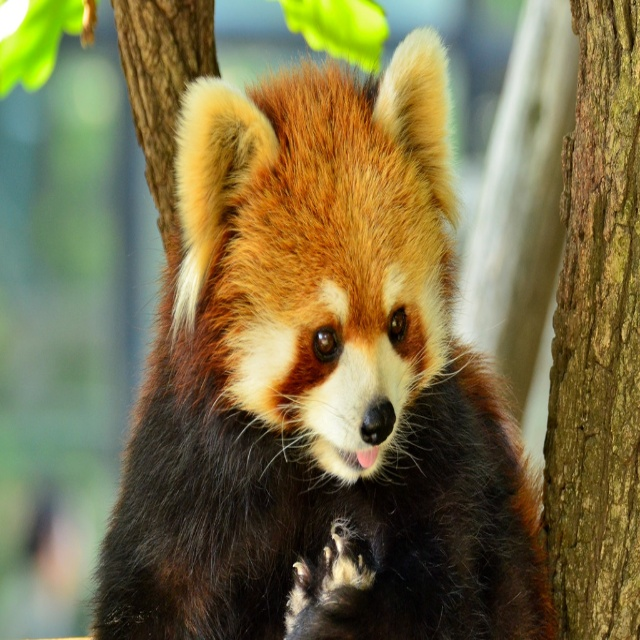Red panda: (71, 23, 559, 639)
